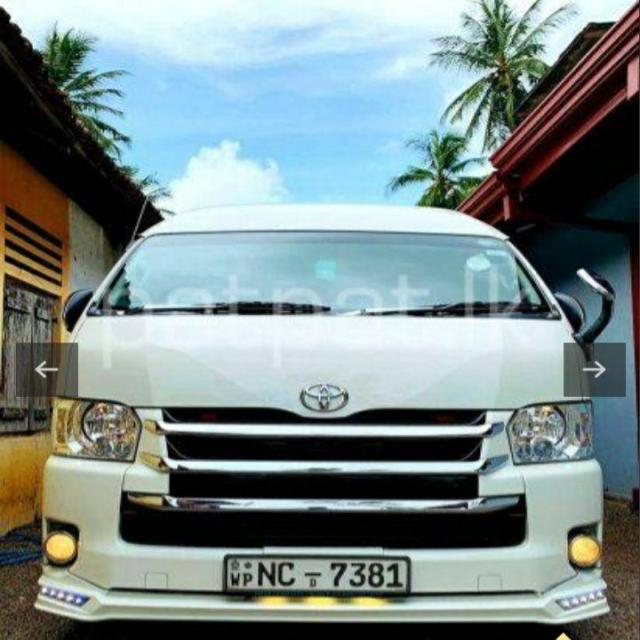license-plate: (226, 556, 407, 592)
